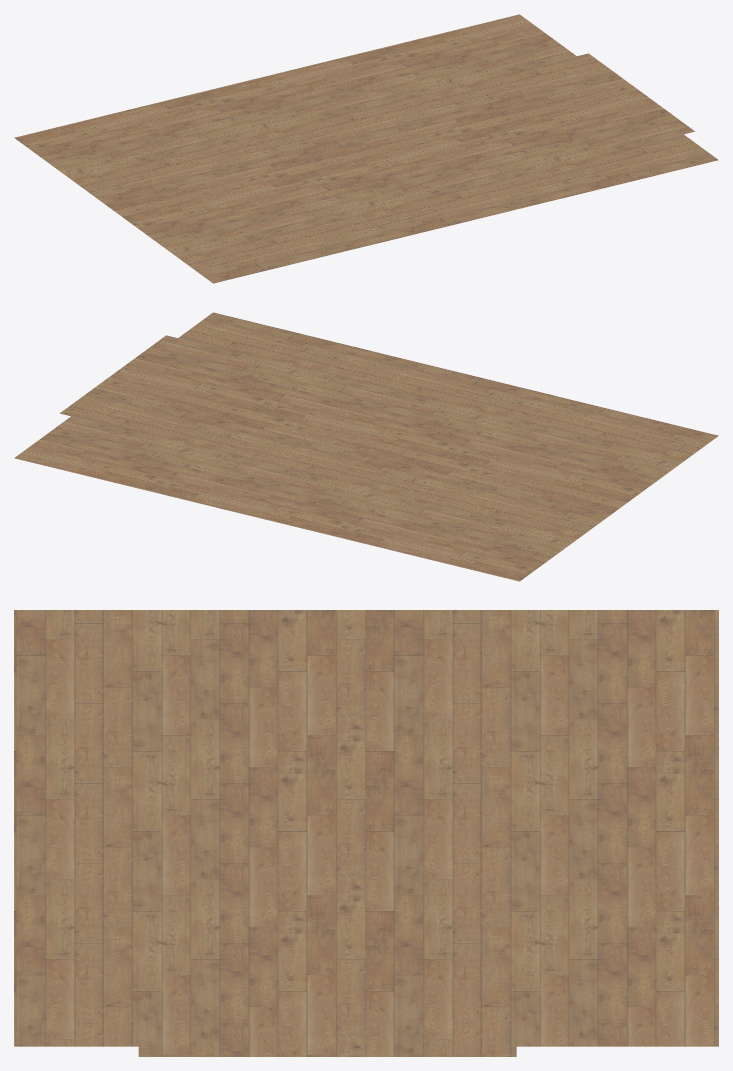
The model's file is floor_parquet_kitchen.glb.
3 renders of one model, top to bottom at view 1: azimuth 30°, elevation 25°; view 2: azimuth 150°, elevation 25°; view 3: azimuth 270°, elevation 25°, orthographic. The views are drawn at different scales.
Parts seen in each view (by area): view 1: node_Floor_Parquet_Kitchen_-8246_1; view 2: node_Floor_Parquet_Kitchen_-8246_1; view 3: node_Floor_Parquet_Kitchen_-8246_1.
Part boxes in pixels (box(x1,y1,x2,y2)): node_Floor_Parquet_Kitchen_-8246_1: box(14, 14, 718, 283); node_Floor_Parquet_Kitchen_-8246_1: box(14, 312, 718, 581); node_Floor_Parquet_Kitchen_-8246_1: box(14, 610, 718, 1056).
Size of the model in its own units: 5.59 by 4.44e-07 by 3.73.
Materials: 1 (1 with a texture image).
